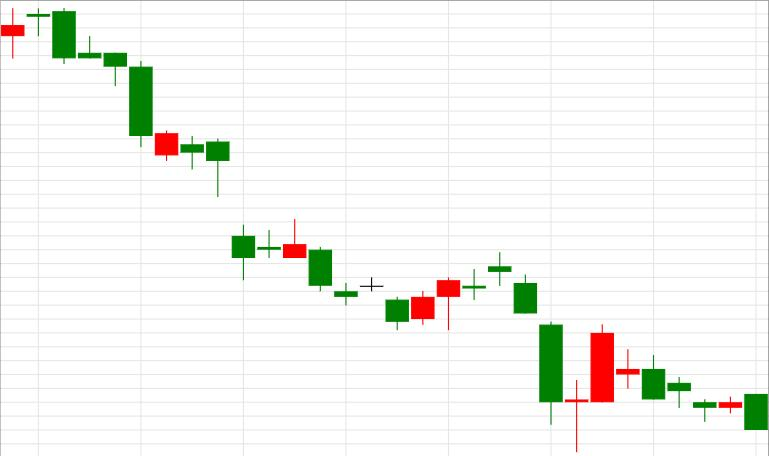morning_star_rise: (489, 253, 613, 451)
